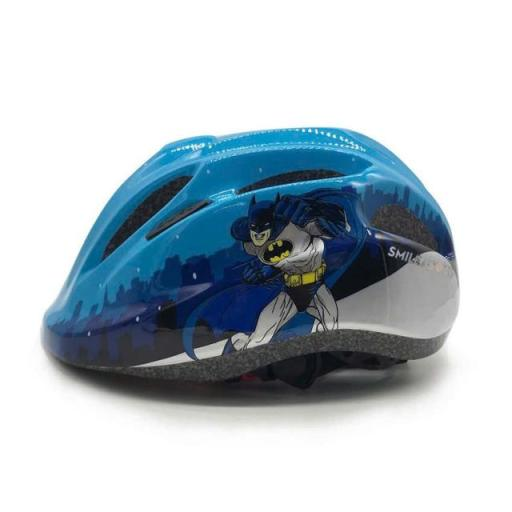with helmet: (21, 110, 470, 412)
